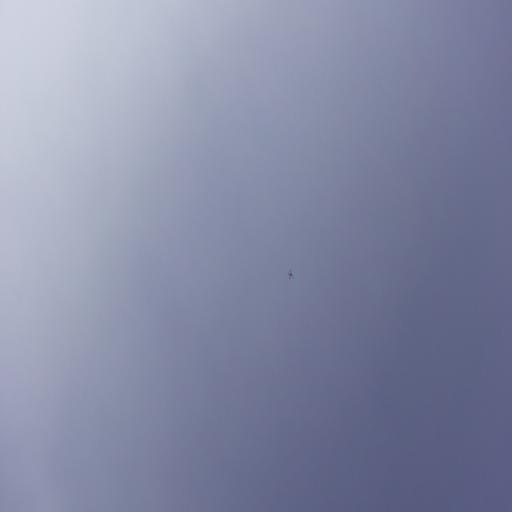drones: (287, 269, 294, 281)
